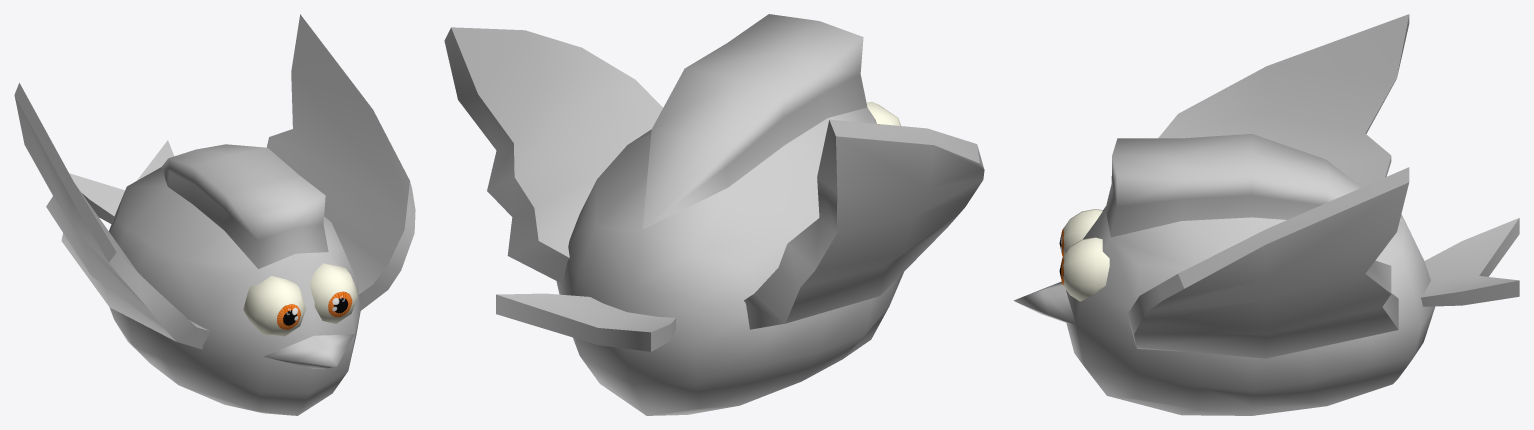
The model's file is bird_1.fbx.
3 renders of one model, left to right at view 1: azimuth 30°, elevation 25°; view 2: azimuth 150°, elevation 25°; view 3: azimuth 270°, elevation 25°, orthographic. The views are drawn at different scales.
Parts seen in each view (by area): view 1: polySurface12, polySurface3, polySurface9, polySurface2; view 2: polySurface12, polySurface3, polySurface9; view 3: polySurface12, polySurface3, polySurface9, polySurface2.
Boxes of the visible parts, left/top/right/bottom form: polySurface12: left=69, top=140, right=361, bottom=415; polySurface3: left=266, top=14, right=415, bottom=310; polySurface9: left=14, top=83, right=210, bottom=349; polySurface2: left=243, top=263, right=358, bottom=336; polySurface12: left=496, top=14, right=903, bottom=415; polySurface3: left=444, top=27, right=662, bottom=283; polySurface9: left=744, top=119, right=984, bottom=329; polySurface12: left=1013, top=134, right=1519, bottom=415; polySurface3: left=1128, top=167, right=1409, bottom=358; polySurface9: left=1158, top=14, right=1409, bottom=187; polySurface2: left=1059, top=209, right=1109, bottom=301.
Bounding box in the file's own units: 12.39 × 11.1 × 15.76.
